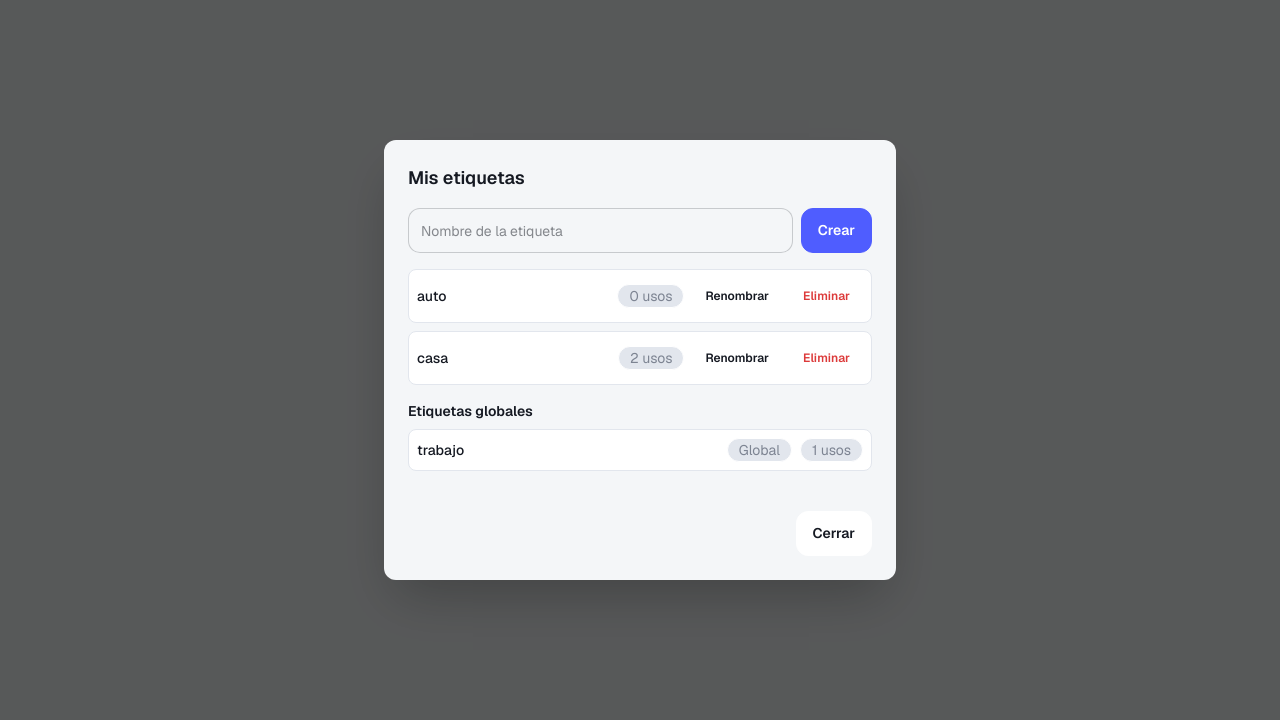
Scenario: PrivateTagsDialog › rechaza crear una privada duplicada (RF-21)
Expected: the text "casa" is shown, [417,349,448,367]
In the field named "Nueva etiqueta": (600, 230) [408,208,793,253], type "casa"
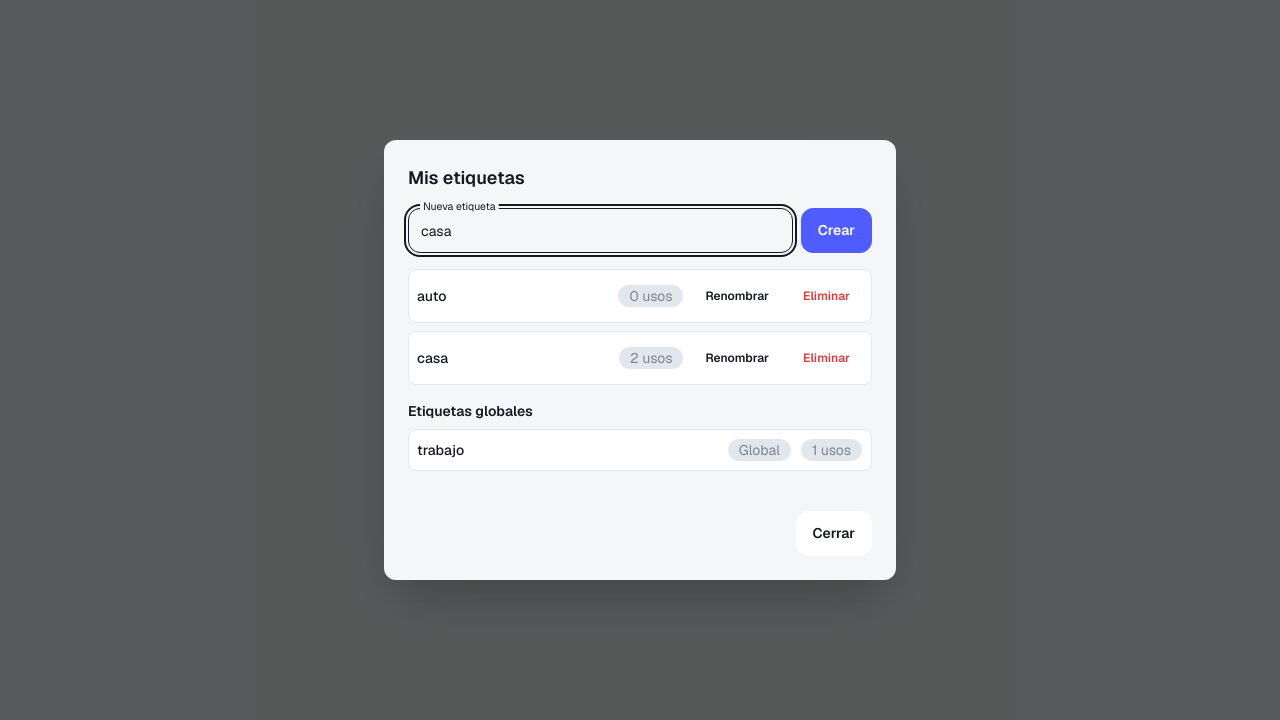
Click the button "Crear": (836, 230) [801,208,872,253]
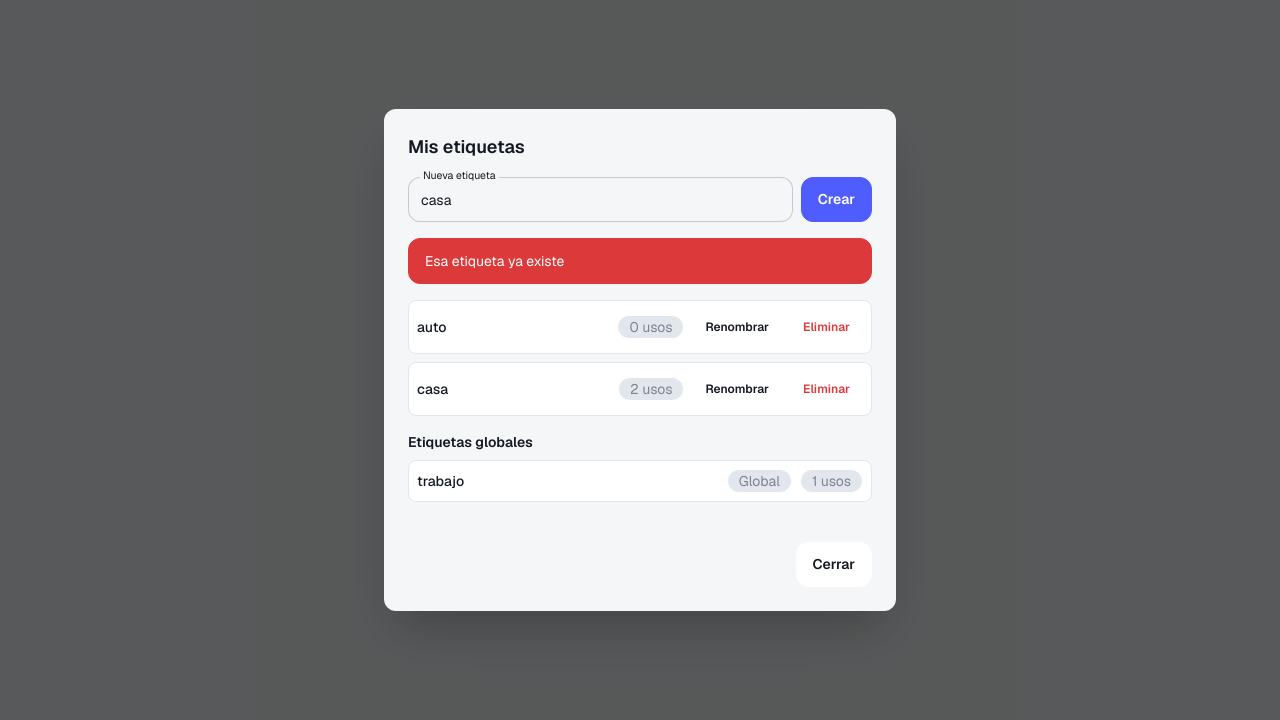
Result: the message reads "Esa etiqueta ya existe" at [425,252,564,270]
